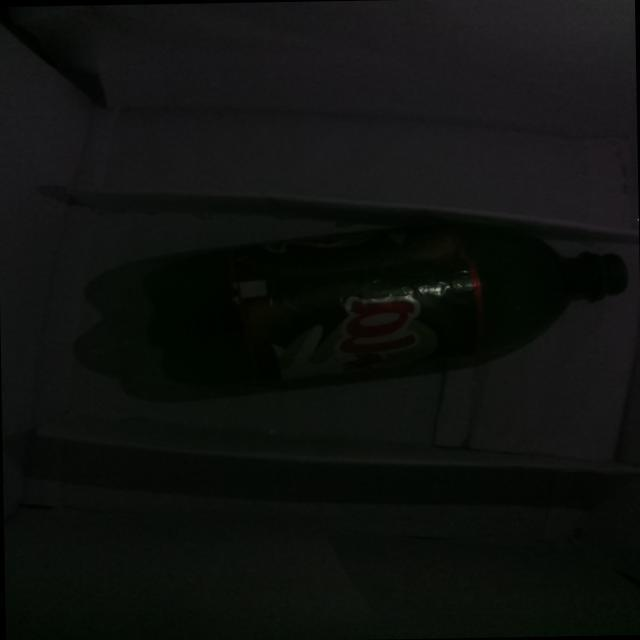good: (74, 198, 632, 402)
